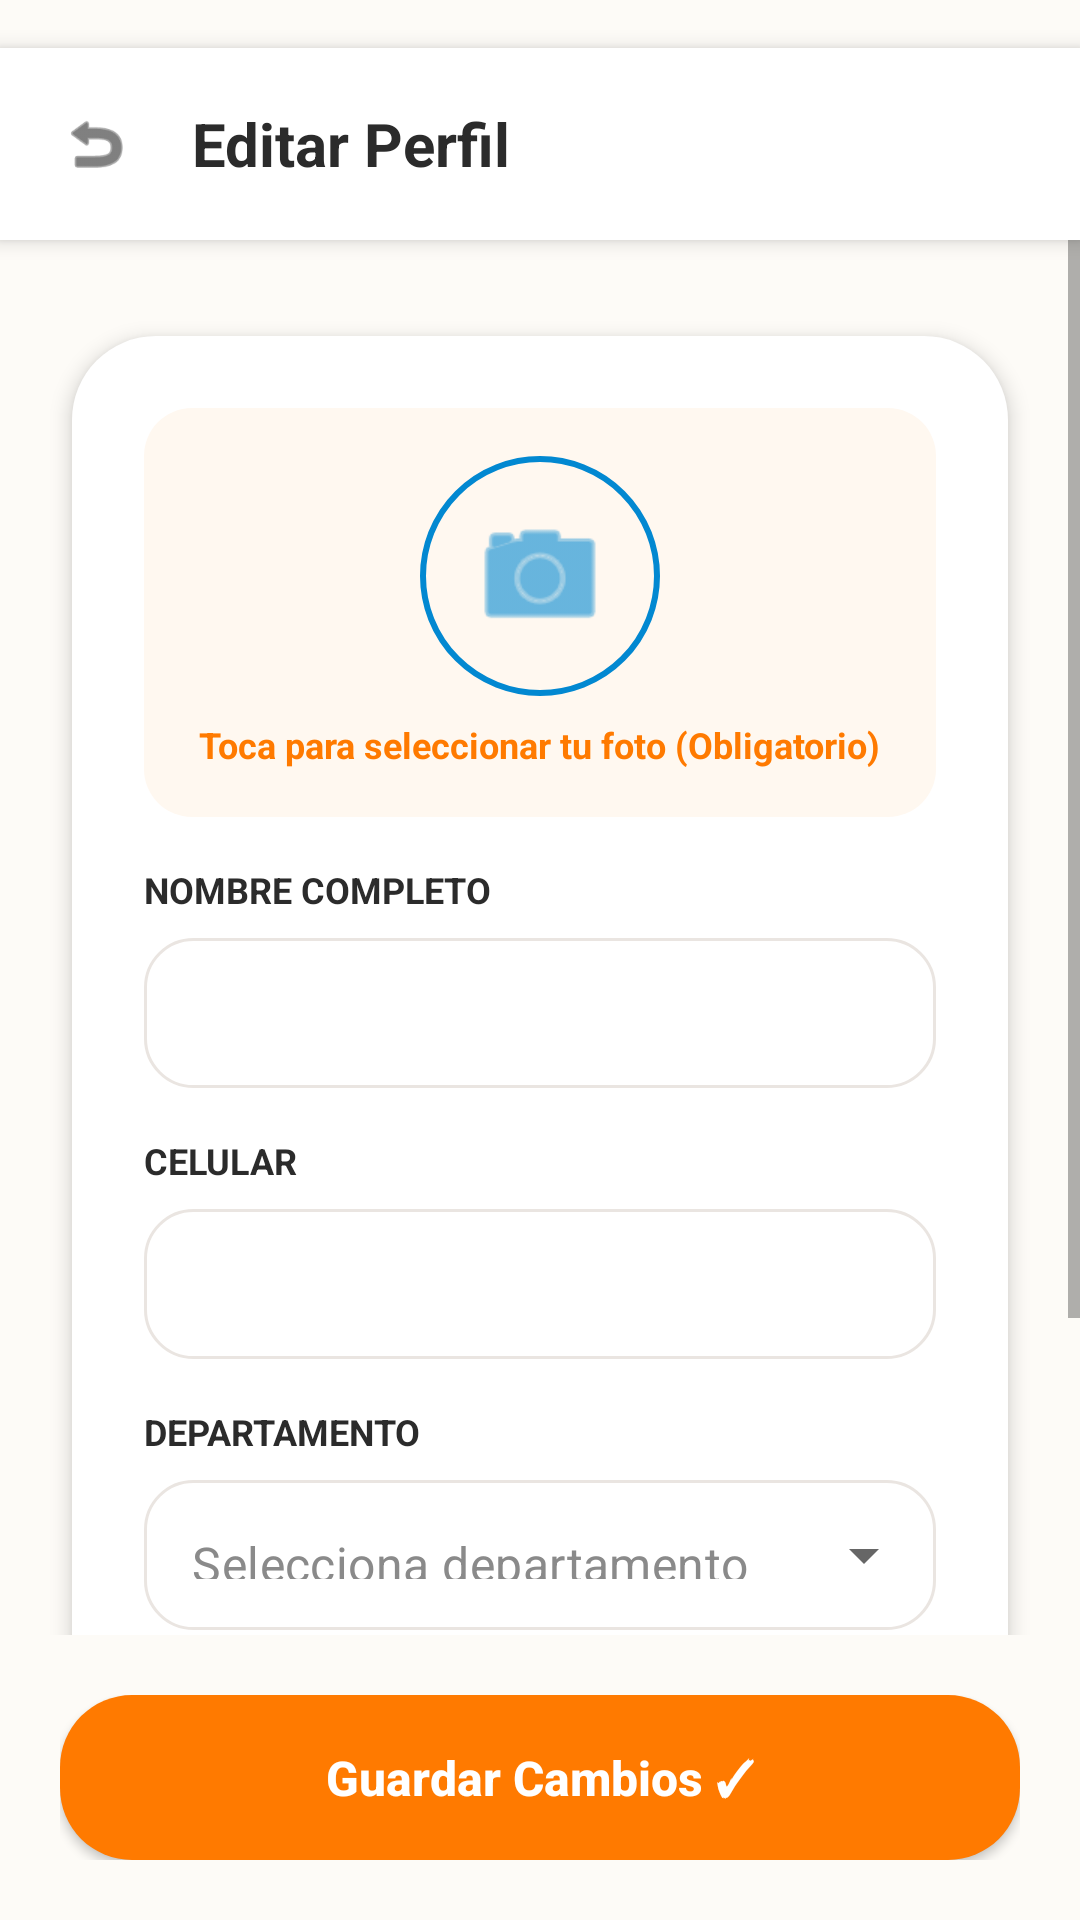

Point at icon controls on the screen. Image size 1080 × 1920, points as [x,y].
camera: [540,576]
revert: [97,144]
